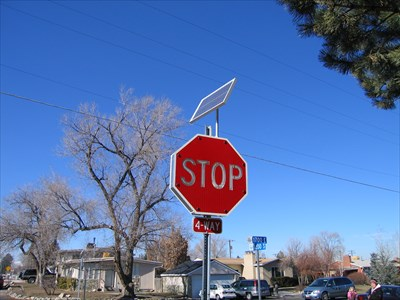stop: (176, 141, 247, 212)
